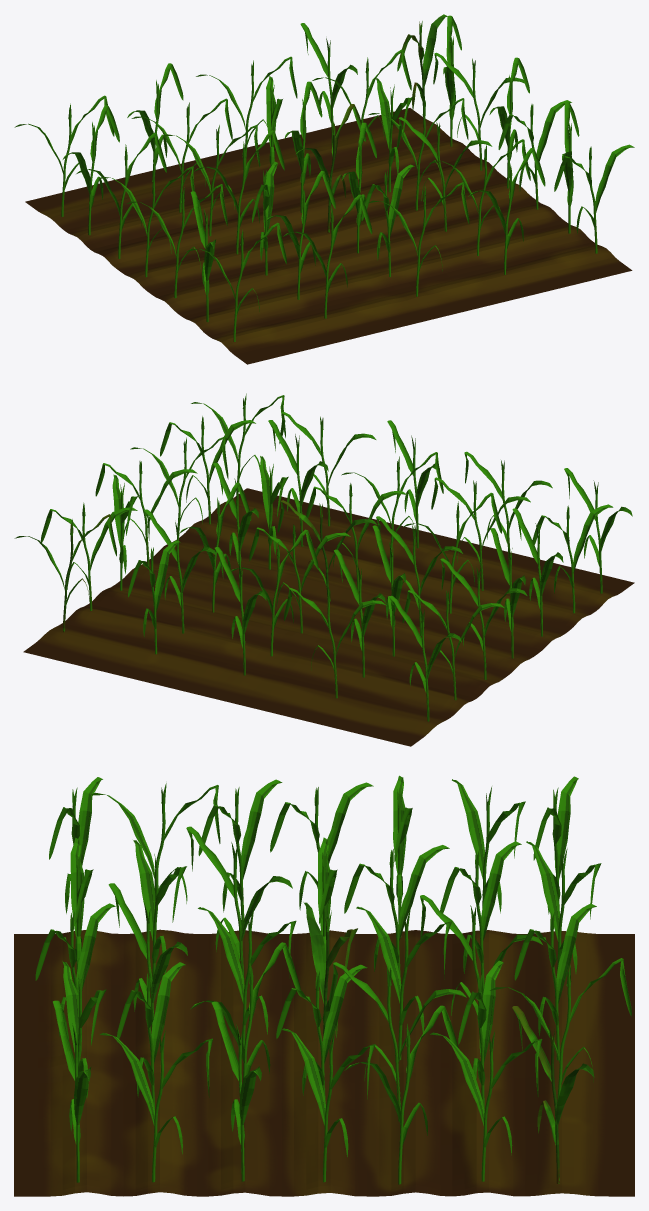
The model's file is FarmV2.fbx.
3 views of the same model, one above another, from view 1: azimuth 30°, elevation 25°; view 2: azimuth 150°, elevation 25°; view 3: azimuth 270°, elevation 25° (orthographic). The views are drawn at different scales.
Visible parts, largest first — view 1: FoundationPrefab, BuildingPrefab; view 2: FoundationPrefab, BuildingPrefab; view 3: FoundationPrefab, BuildingPrefab.
Boxes of the visible parts, left/top/right/bottom form: FoundationPrefab: left=25, top=108, right=632, bottom=364; BuildingPrefab: left=14, top=14, right=634, bottom=341; FoundationPrefab: left=23, top=488, right=634, bottom=746; BuildingPrefab: left=14, top=393, right=632, bottom=721; FoundationPrefab: left=14, top=929, right=634, bottom=1196; BuildingPrefab: left=35, top=775, right=631, bottom=1184.
Size of the model in its own units: 464 by 114 by 400.
